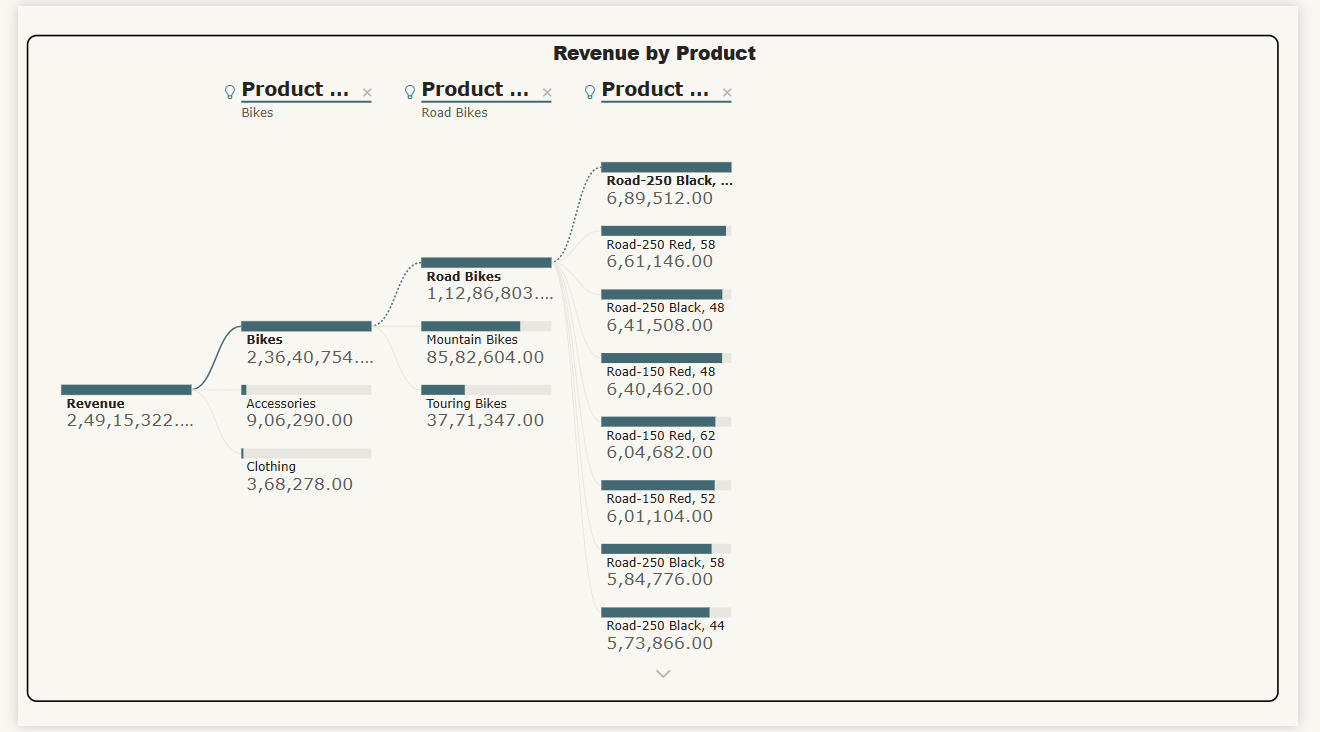

Layout of this report page (visuals, bound fields, positions):
{"tool":"powerbi","page":{"name":"DT","canvas":[1280,720],"ordinal":4},"visuals":[{"type":"decompositionTreeVisual","title":"Revenue by Product","fields":{"Analyze":["All_Measures (2).M_Revenue"],"ExplainBy":["d-Product_Categories.Product_Category","d-Product_Subcategories.SubcategoryName","d-Products.ProductName"]},"box":[9,28.6,1251.8,667.2],"z":0}]}

Visuals, with their boxes in screenshot pixels (x1, y1, x2, y2), scaled from the page's 1280x720 canvas onto the 1320x732 screenshot:
"Revenue by Product" decompositionTreeVisual: (left=9, top=29, right=1300, bottom=707)
